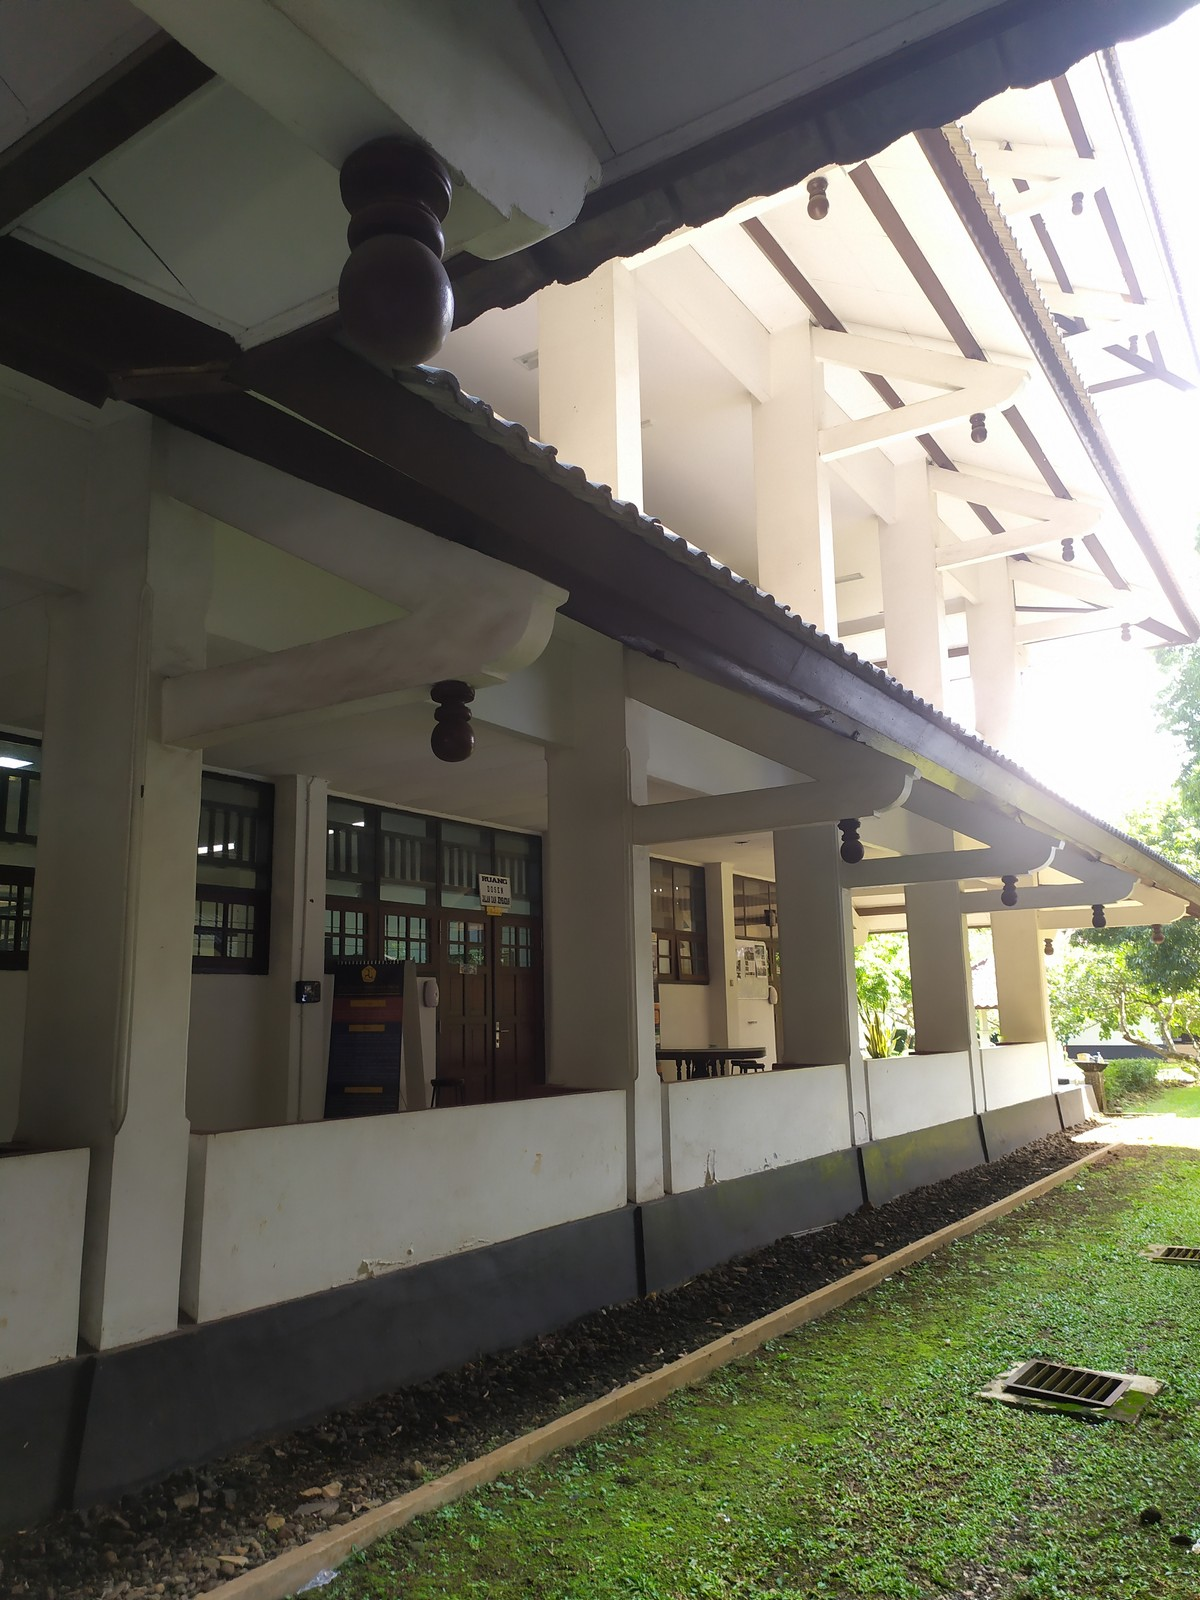concrete beam: (141, 624, 425, 757), (620, 787, 813, 858), (805, 404, 950, 467), (827, 844, 991, 893), (926, 529, 1049, 580), (1011, 607, 1116, 655)
concrete column: (29, 414, 221, 1357), (537, 650, 676, 1217), (741, 307, 855, 641), (532, 282, 666, 493), (768, 816, 872, 1083), (875, 459, 950, 711), (961, 559, 1030, 753), (992, 907, 1060, 1058)
